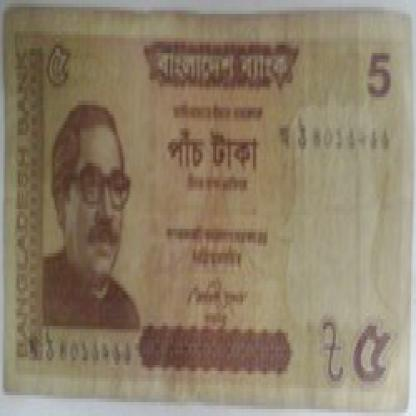Five Taka: (163, 118, 261, 177), (352, 315, 392, 392), (41, 35, 75, 94), (366, 45, 396, 104)
